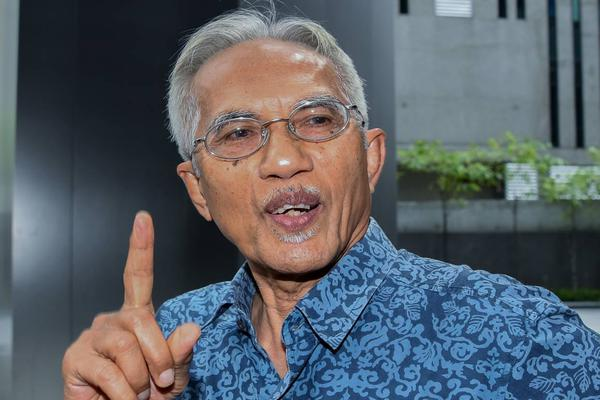Malay: (191, 56, 374, 272)
